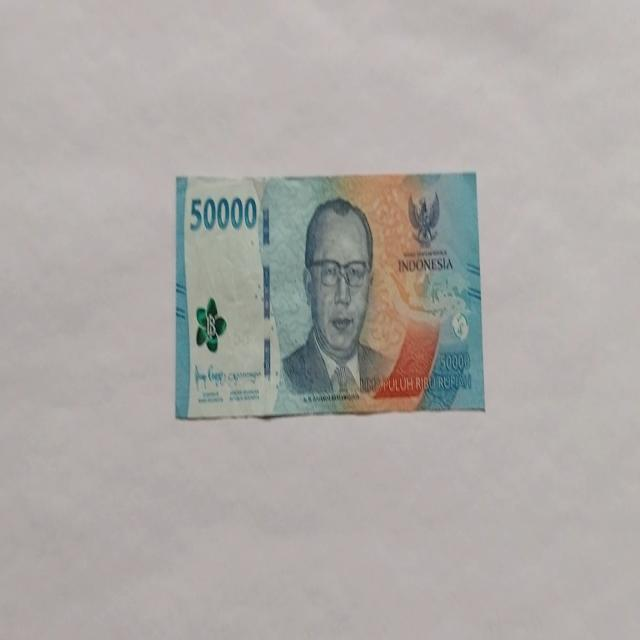lima puluh ribu rupiah: (174, 170, 485, 422), (278, 194, 394, 403)
